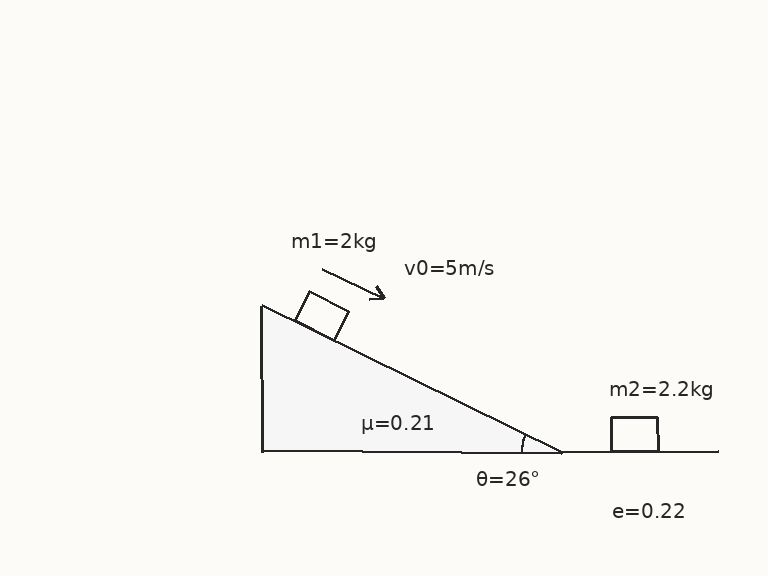block: (292, 289, 350, 342), (609, 415, 659, 453)
ramp: (260, 303, 564, 453)
